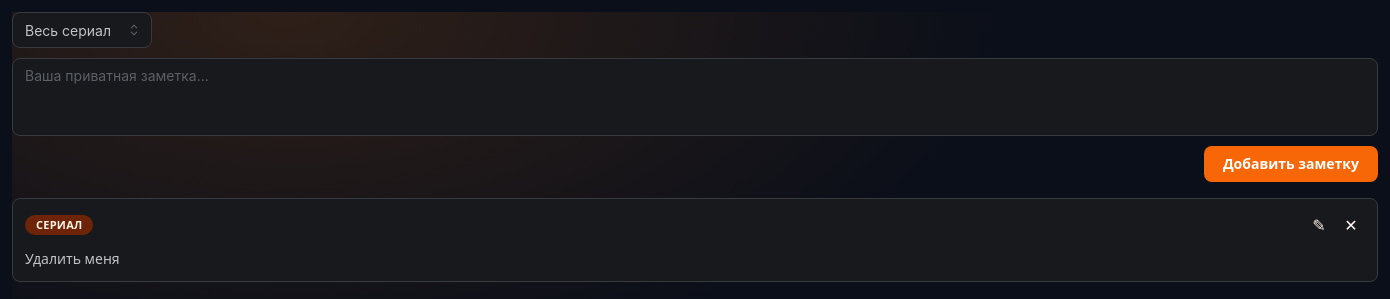
NotesList › deletes a note
The image size is (1390, 299).
Click the button named "Удалить заметку" at (1351, 225), box [1337, 211, 1365, 239]
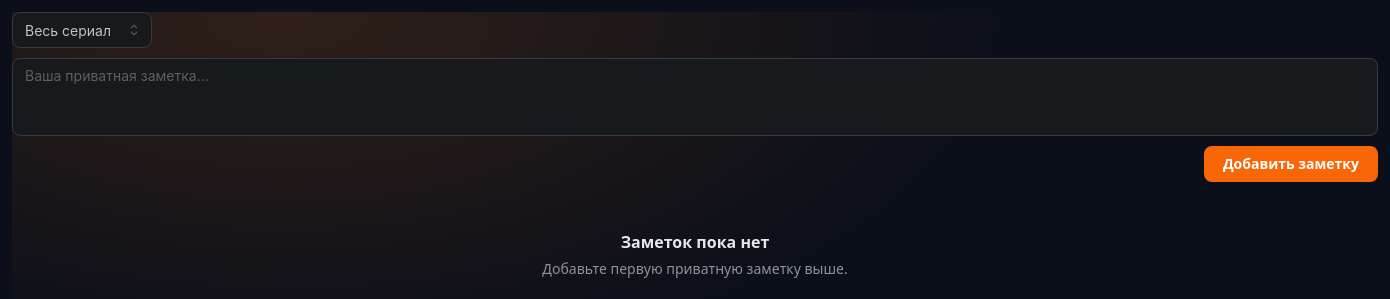
Expected: the text "Удалить меня" is gone
